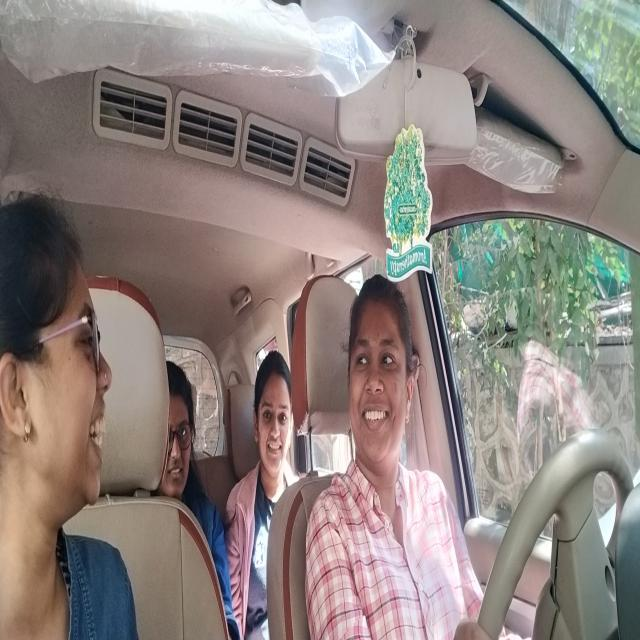LeftRight: (345, 260, 417, 486)
person: (0, 189, 116, 538), (250, 332, 297, 486), (168, 350, 202, 504)
talking: (86, 398, 112, 470), (357, 388, 394, 434)
